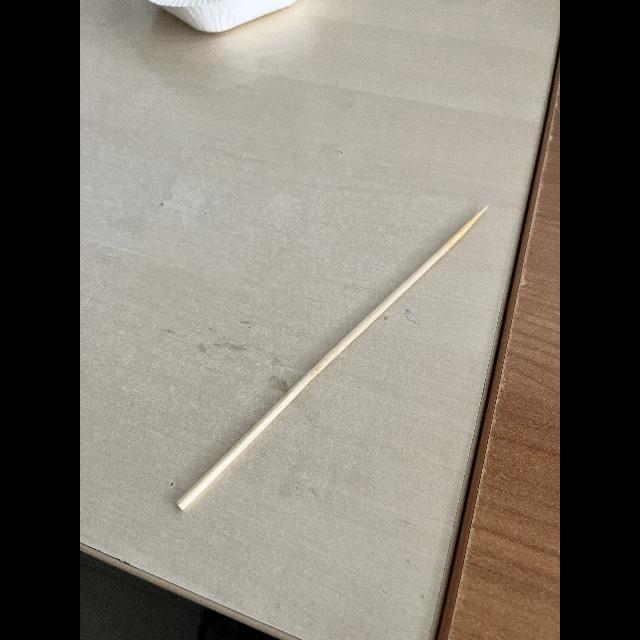stick: (171, 205, 494, 517)
